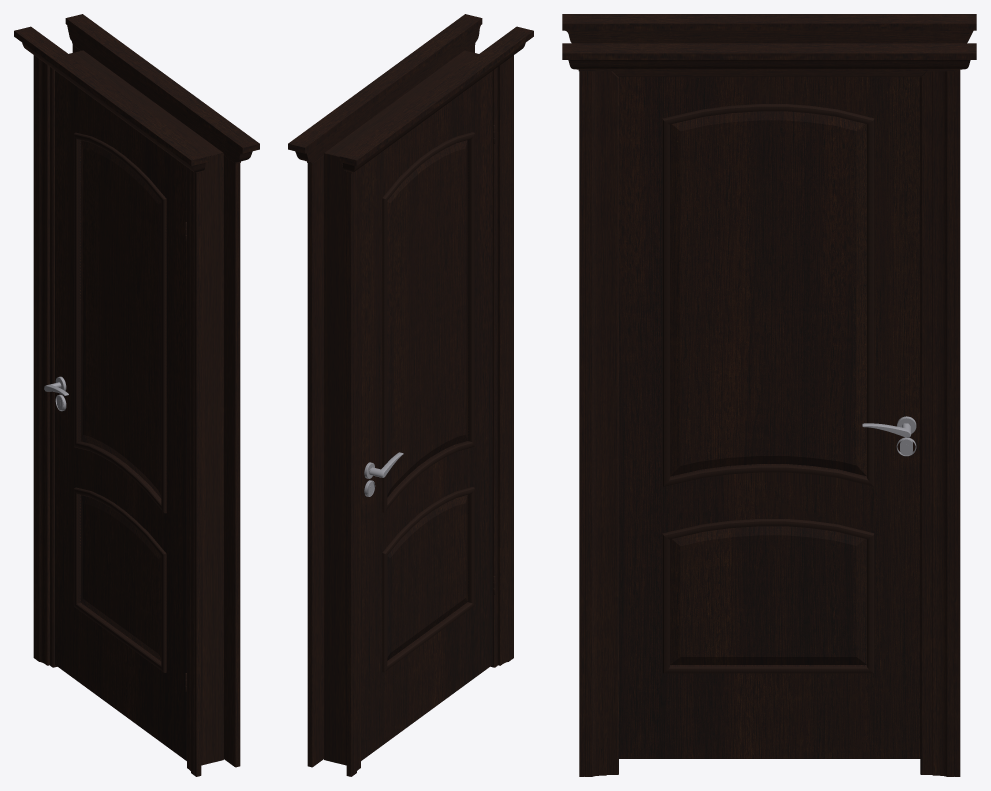
The model's file is Door_02.fbx.
3 renders of one model, left to right at view 1: azimuth 30°, elevation 25°; view 2: azimuth 150°, elevation 25°; view 3: azimuth 270°, elevation 25°, orthographic. The views are drawn at different scales.
Parts seen in each view (by area): view 1: Door_02, Door_02_base; view 2: Door_02, Door_02_base; view 3: Door_02, Door_02_base.
Part boxes in pixels (bbox=[...]): Door_02: bbox=[44, 71, 186, 760]; Door_02_base: bbox=[14, 14, 259, 776]; Door_02: bbox=[361, 71, 492, 760]; Door_02_base: bbox=[288, 14, 533, 776]; Door_02: bbox=[619, 76, 920, 758]; Door_02_base: bbox=[562, 14, 976, 776].
Size of the model in its own units: 28.78 by 250 by 128.
